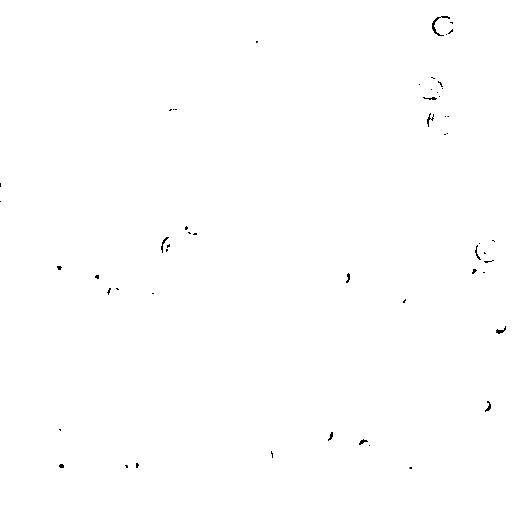micro-algae: (158, 0, 284, 69), (15, 34, 96, 119), (239, 442, 315, 511), (161, 364, 231, 433), (71, 248, 129, 305), (111, 445, 149, 483), (91, 485, 137, 512), (423, 105, 458, 137), (139, 237, 172, 268), (43, 411, 71, 442), (241, 23, 271, 51), (489, 61, 511, 98), (474, 237, 503, 265), (415, 76, 446, 100), (189, 126, 215, 153), (397, 464, 426, 488), (161, 235, 187, 261), (386, 281, 412, 307), (432, 11, 457, 37), (467, 264, 492, 289), (47, 451, 73, 475), (161, 49, 185, 73), (23, 417, 49, 439), (329, 264, 352, 287), (46, 257, 71, 278), (372, 381, 393, 406), (255, 443, 275, 469), (163, 107, 186, 127), (427, 223, 447, 246), (467, 291, 488, 312), (103, 0, 139, 12), (237, 413, 256, 434), (89, 266, 107, 285), (41, 113, 59, 131), (383, 220, 400, 239), (183, 219, 201, 236), (490, 317, 507, 334), (170, 365, 187, 381), (399, 229, 416, 245), (1, 181, 14, 201), (107, 285, 123, 301), (145, 287, 161, 303), (317, 427, 335, 441), (358, 435, 372, 452), (123, 456, 140, 469), (335, 505, 368, 511), (479, 397, 492, 411), (502, 367, 512, 385)
